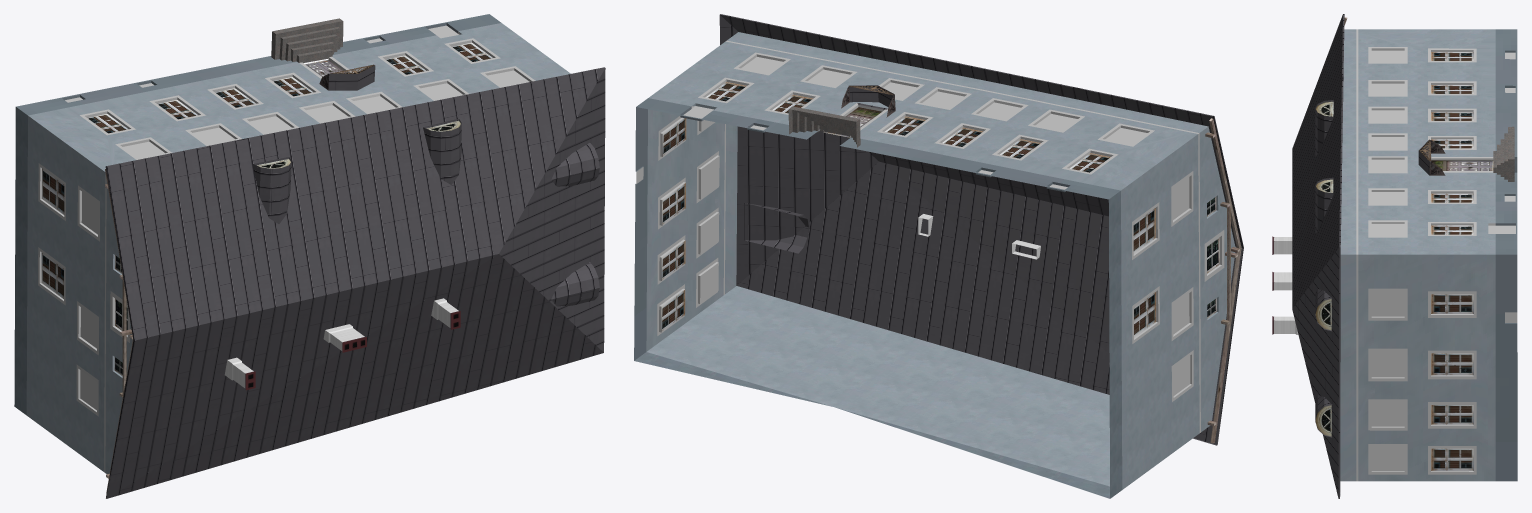
Rendered from Piiskopi_5.obj.
3 renders of one model, left to right at view 1: azimuth 30°, elevation 25°; view 2: azimuth 150°, elevation 25°; view 3: azimuth 270°, elevation 25°, orthographic. The views are drawn at different scales.
Visible parts, largest first — view 1: Piiskopi_5; view 2: Piiskopi_5; view 3: Piiskopi_5.
Part boxes in pixels (left/top/right/bottom): Piiskopi_5: left=14, top=14, right=605, bottom=498; Piiskopi_5: left=634, top=14, right=1243, bottom=498; Piiskopi_5: left=1272, top=14, right=1517, bottom=498.
Size of the model in its own units: 26.08 by 16.5 by 12.49.
